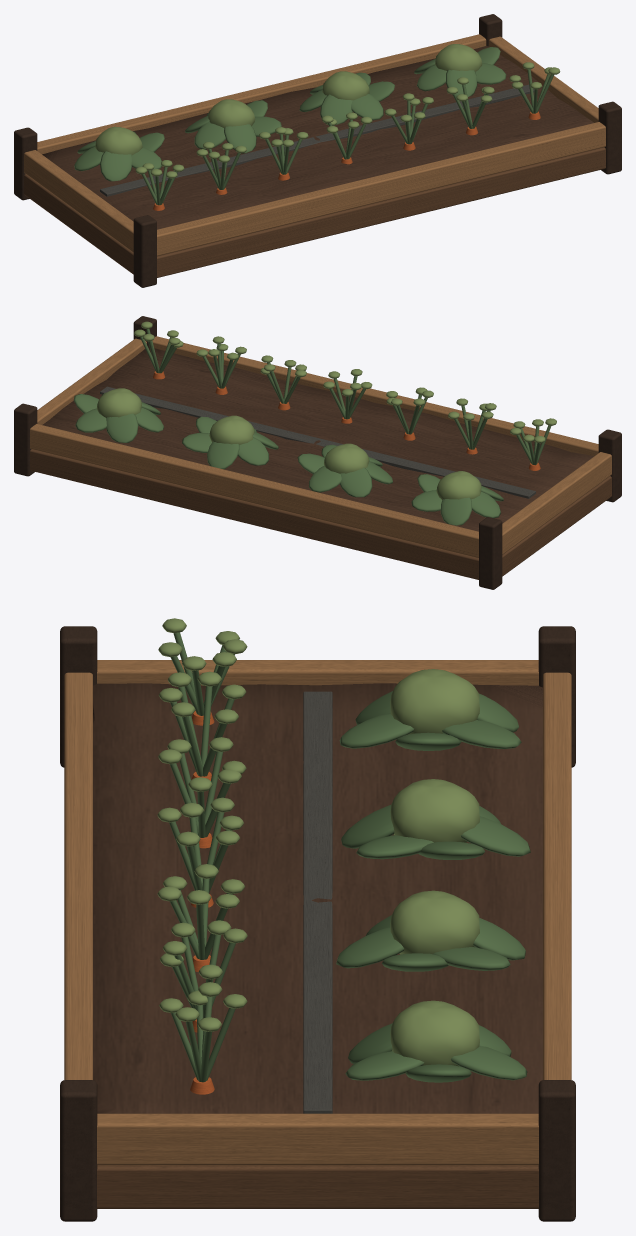
File: garden_bed.glb
3 views of the same model, one above another, from view 1: azimuth 30°, elevation 25°; view 2: azimuth 150°, elevation 25°; view 3: azimuth 270°, elevation 25° (orthographic). The views are drawn at different scales.
Visible parts, largest first — view 1: garden_bed; view 2: garden_bed; view 3: garden_bed.
Boxes of the visible parts, x1,y1,x2,y2 form: garden_bed: (14, 14, 621, 287); garden_bed: (14, 316, 621, 589); garden_bed: (60, 618, 575, 1221).
Size of the model in its own units: 2.8 by 0.5 by 1.3.
1 material, 1 textured.
